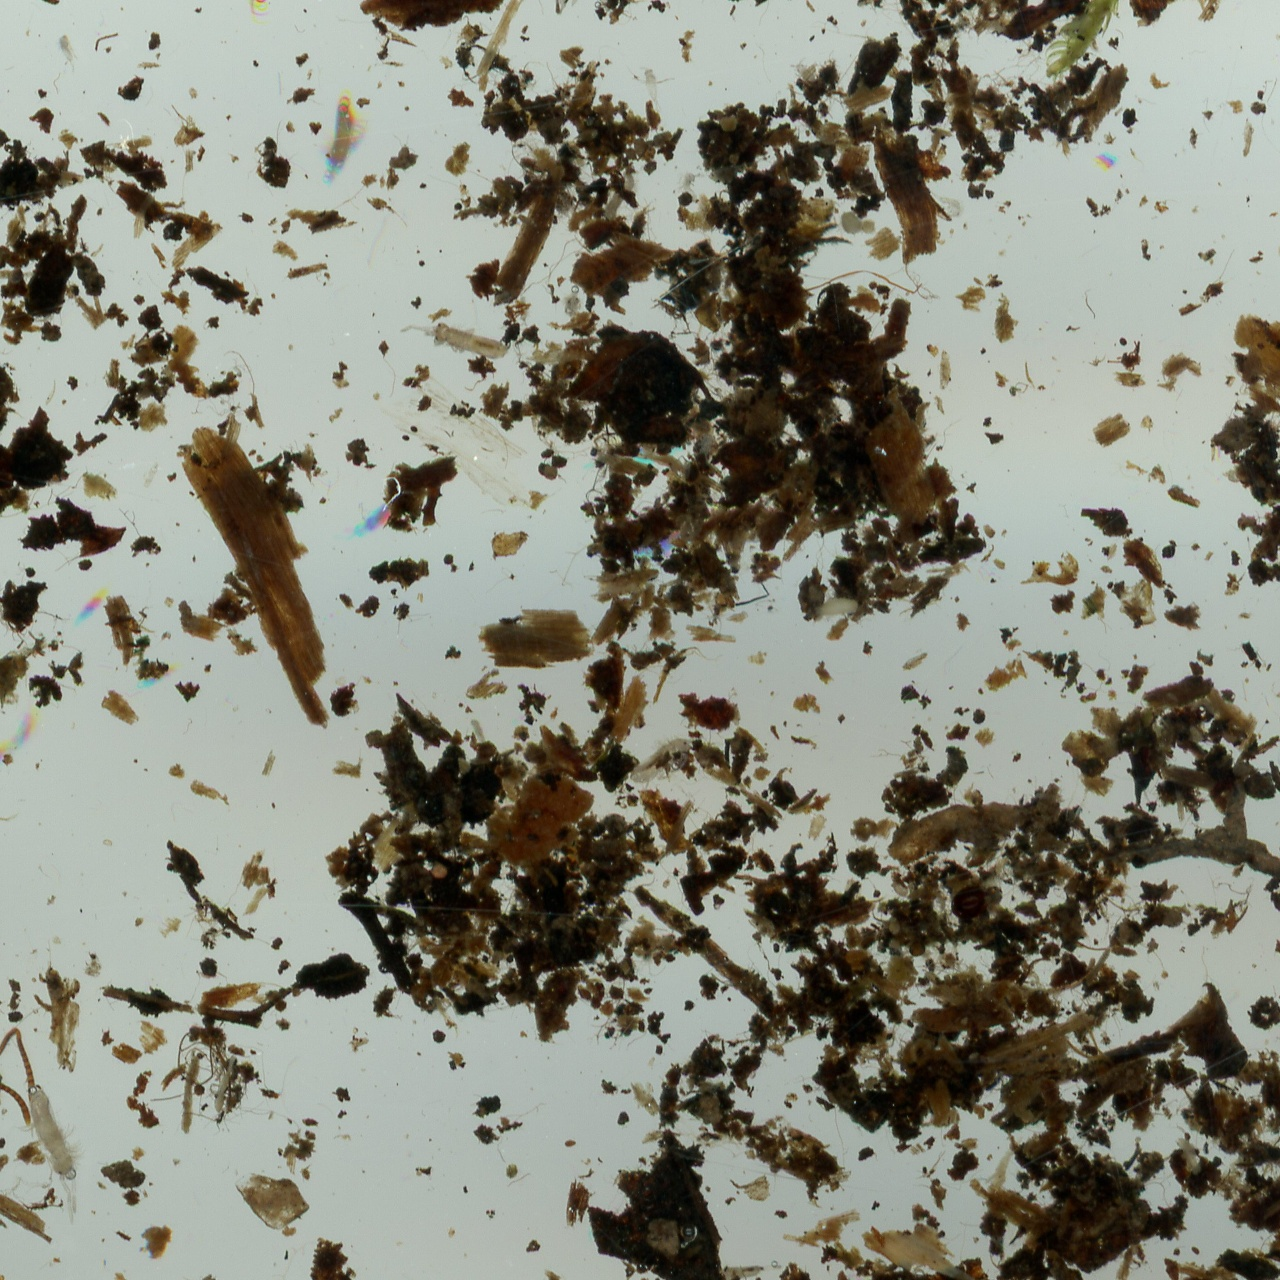arthropod: (0, 1026, 70, 1250), (13, 1081, 104, 1225), (399, 309, 511, 368), (316, 90, 375, 195), (628, 726, 699, 791), (625, 59, 679, 117), (598, 165, 639, 224), (932, 188, 968, 221), (56, 33, 81, 75), (673, 170, 705, 200), (243, 0, 282, 22), (788, 57, 818, 85), (692, 431, 718, 463), (559, 292, 585, 321), (519, 294, 532, 328), (835, 1267, 858, 1280)
